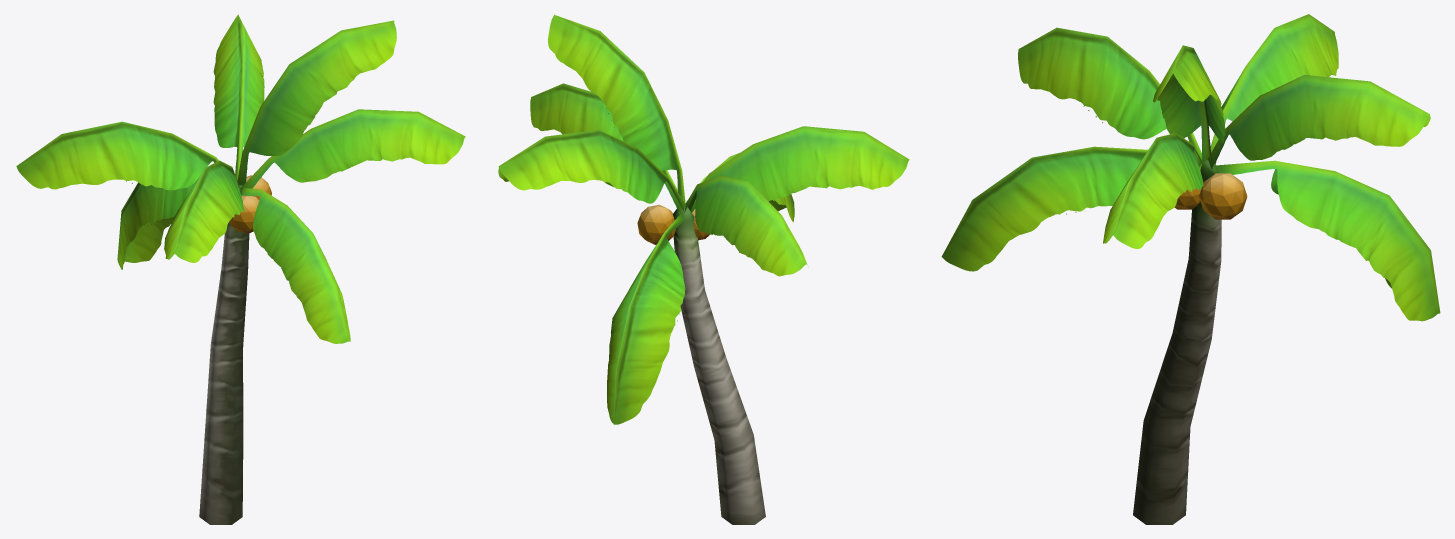
Rendered from Cocoba02.fbx.
3 renders of one model, left to right at view 1: azimuth 30°, elevation 25°; view 2: azimuth 150°, elevation 25°; view 3: azimuth 270°, elevation 25°, orthographic. The views are drawn at different scales.
Visible parts, largest first — view 1: coconut_trunk02; view 2: coconut_trunk02; view 3: coconut_trunk02.
Part boxes in pixels (bbox=[...]): coconut_trunk02: bbox=[16, 14, 465, 524]; coconut_trunk02: bbox=[498, 14, 909, 524]; coconut_trunk02: bbox=[941, 14, 1440, 524].
Size of the model in its own units: 2599 by 3081 by 2547.
